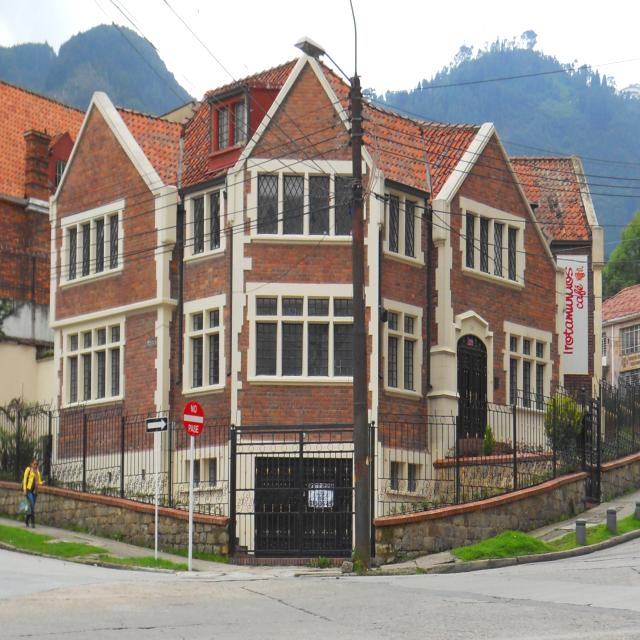fachada: (52, 55, 353, 553), (0, 81, 84, 404), (512, 157, 603, 390), (602, 285, 639, 386)
poste: (351, 75, 370, 568), (154, 432, 160, 560), (189, 436, 194, 571), (512, 403, 517, 491)
